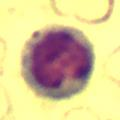monocyte: (22, 25, 96, 97)
